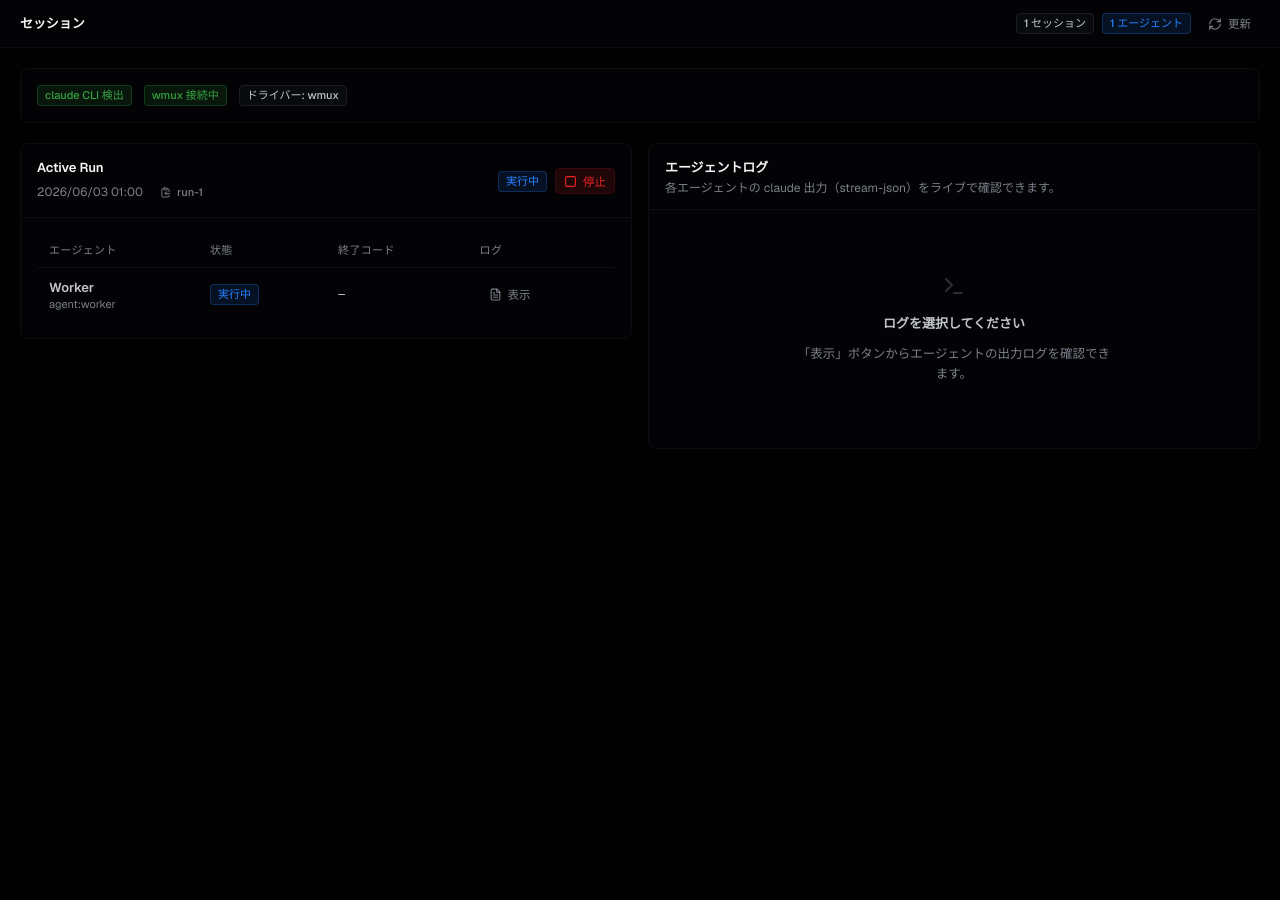
SessionsPage › stop button opens a ConfirmDialog (not instant stop)
Expected: the text "Active Run" is shown, [37,158,104,176]
Click the button with aria-label "Active Run を停止" at (585, 181), box [555,168,615,194]
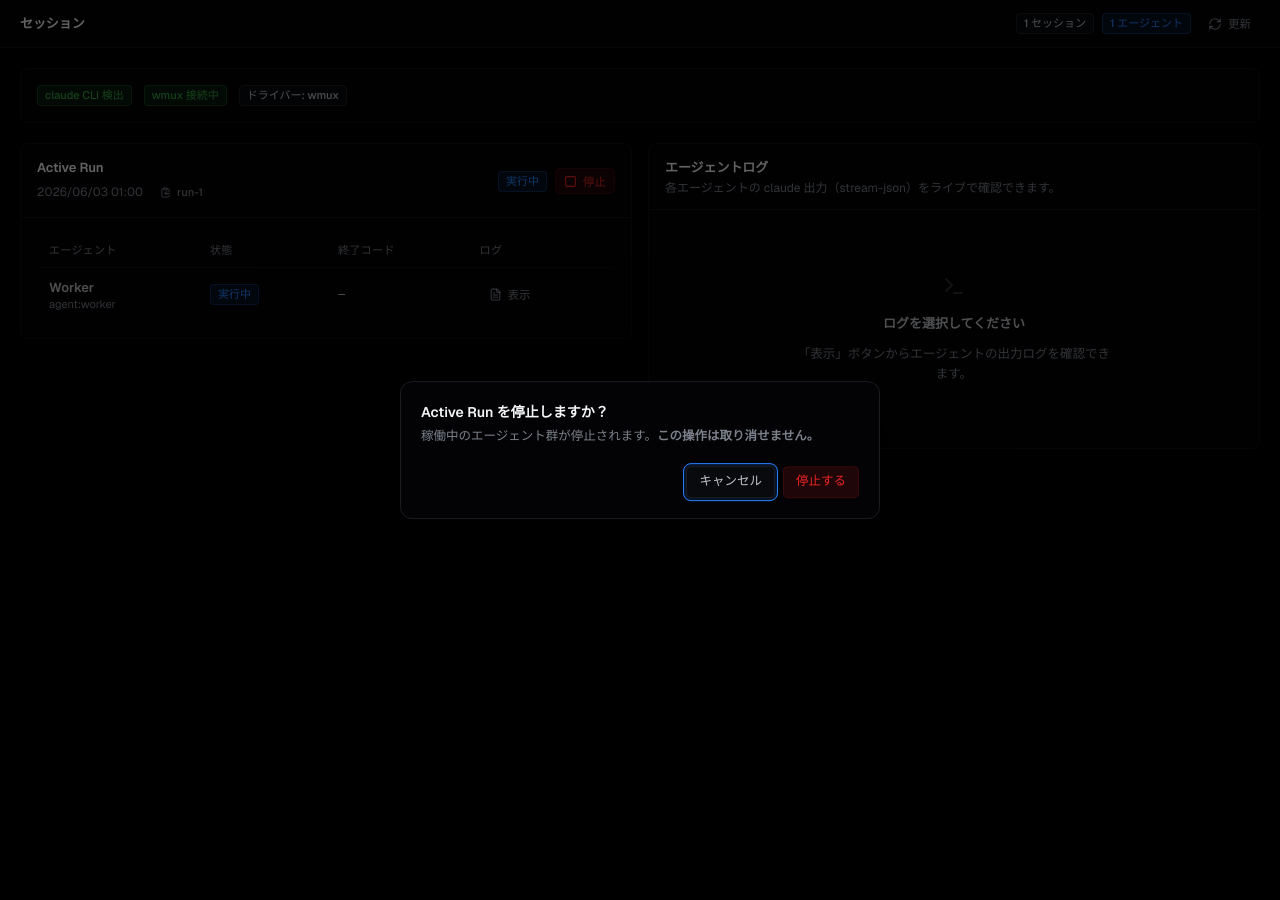
Expected: the heading "Active Run を停止しますか？" is shown, [421,403,609,421]
Expected: the button "停止する" is shown, [783,466,859,498]
